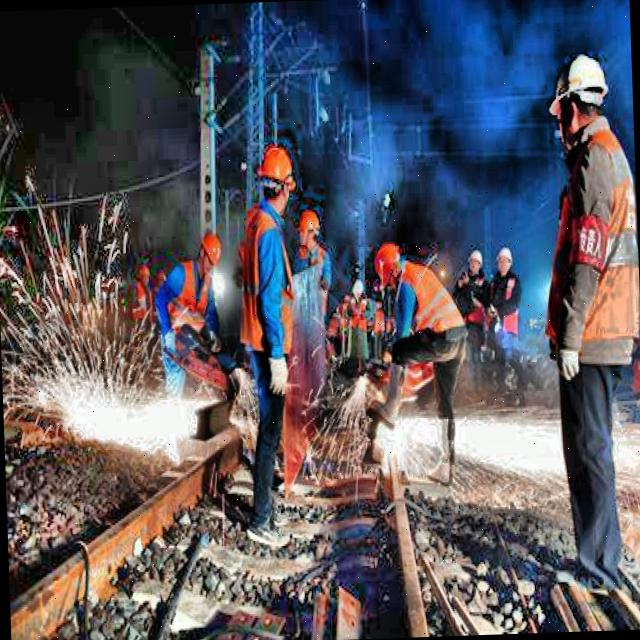helmet: (546, 53, 610, 140), (255, 138, 297, 214), (371, 237, 407, 288), (194, 228, 226, 278), (296, 202, 322, 249), (464, 244, 486, 279), (494, 243, 513, 276)
